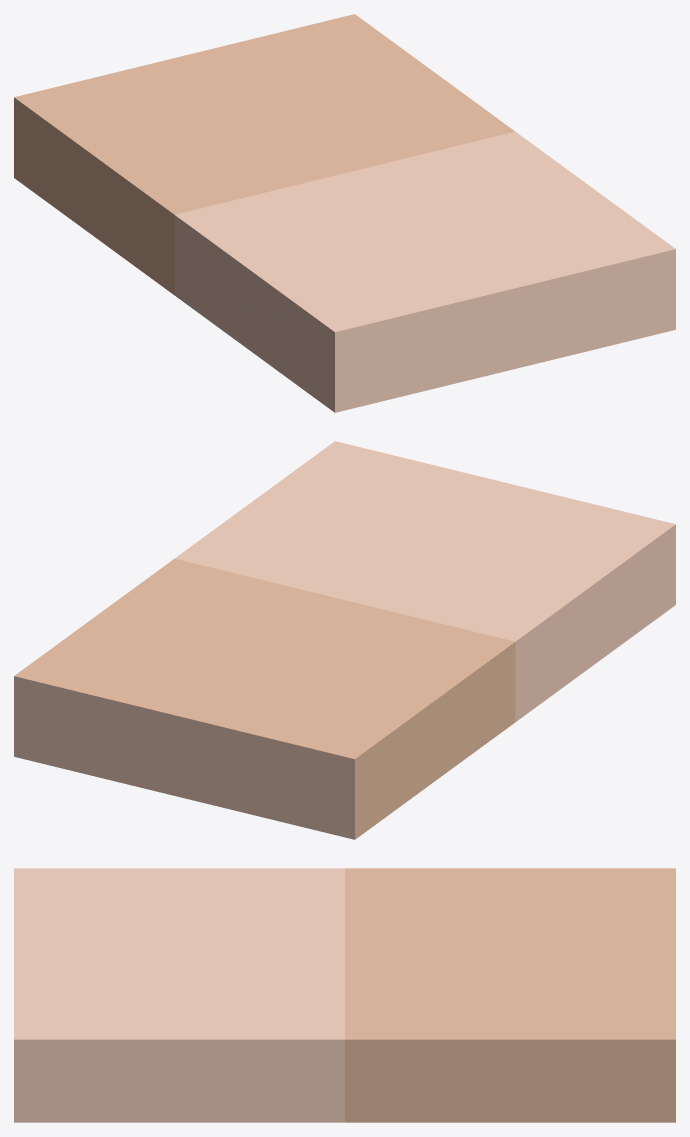
The model's file is tile02_s03.FBX.
3 views of the same model, one above another, from view 1: azimuth 30°, elevation 25°; view 2: azimuth 150°, elevation 25°; view 3: azimuth 270°, elevation 25° (orthographic). The views are drawn at different scales.
Parts seen in each view (by area): view 1: tile02_s03; view 2: tile02_s03; view 3: tile02_s03.
Part boxes in pixels (box(x1,y1,x2,y2)): tile02_s03: box(14, 14, 675, 412); tile02_s03: box(14, 441, 675, 839); tile02_s03: box(14, 868, 675, 1122).
Bounding box in the file's own units: 116 × 190 × 26.33.
Materials: 1 (1 with a texture image).
